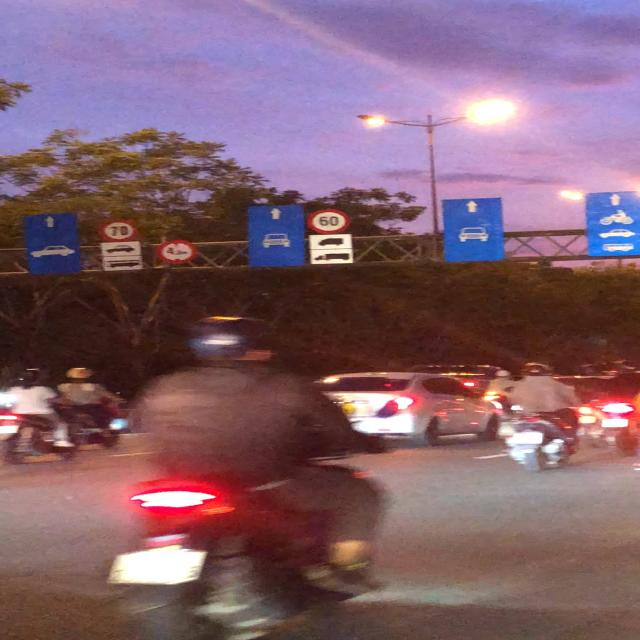Bien bao han che chieu cao: (152, 237, 200, 269)
Bien bao toc do toi da cho phep: (300, 207, 360, 236), (96, 218, 139, 244)
